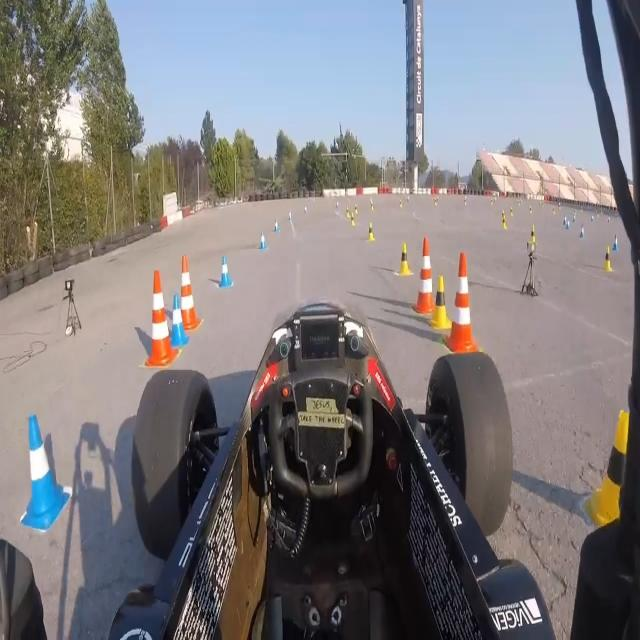blue_cone: (14, 414, 71, 538), (166, 294, 188, 347), (218, 254, 231, 286), (259, 230, 268, 252), (612, 233, 620, 251), (579, 221, 585, 241), (274, 216, 280, 234), (288, 210, 292, 221)
large_orange_cone: (141, 272, 178, 367), (444, 253, 478, 353), (414, 238, 437, 317), (181, 257, 201, 330)
yellow_cone: (582, 410, 630, 527), (431, 277, 452, 330), (397, 240, 412, 278), (602, 244, 612, 273), (529, 223, 537, 244), (367, 222, 374, 245), (350, 212, 356, 227), (502, 215, 507, 231), (346, 206, 350, 220)
